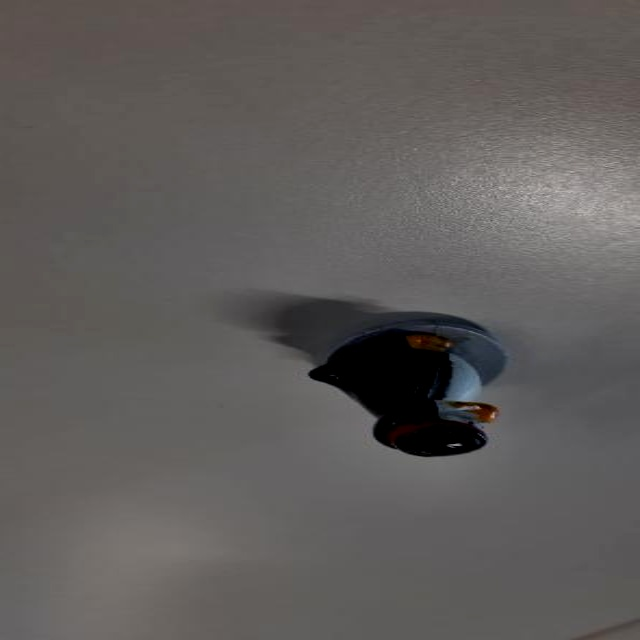Penguin: (298, 312, 526, 457)
